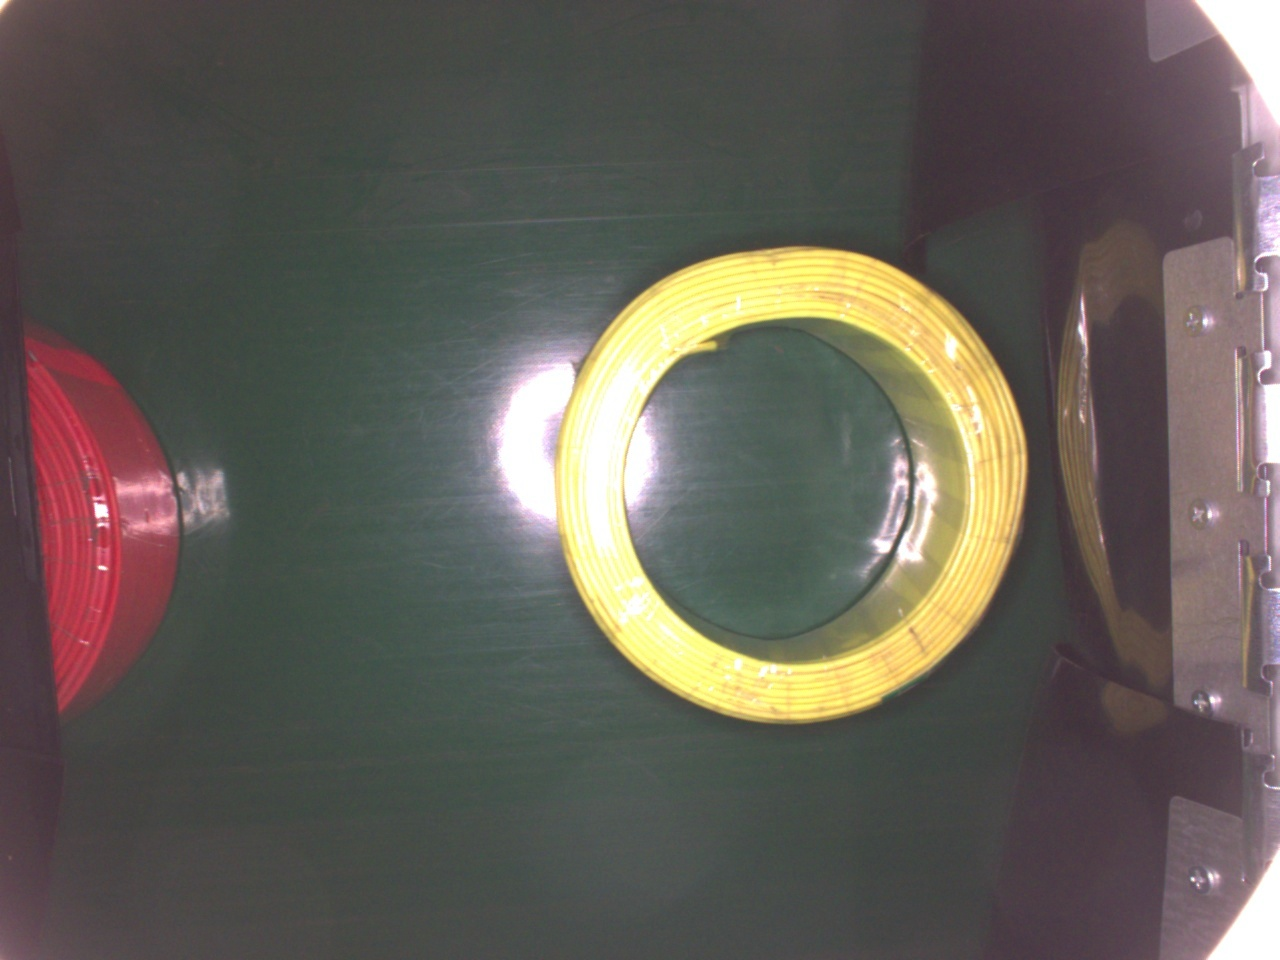red: (28, 318, 183, 719)
yellow: (556, 242, 1032, 727)
